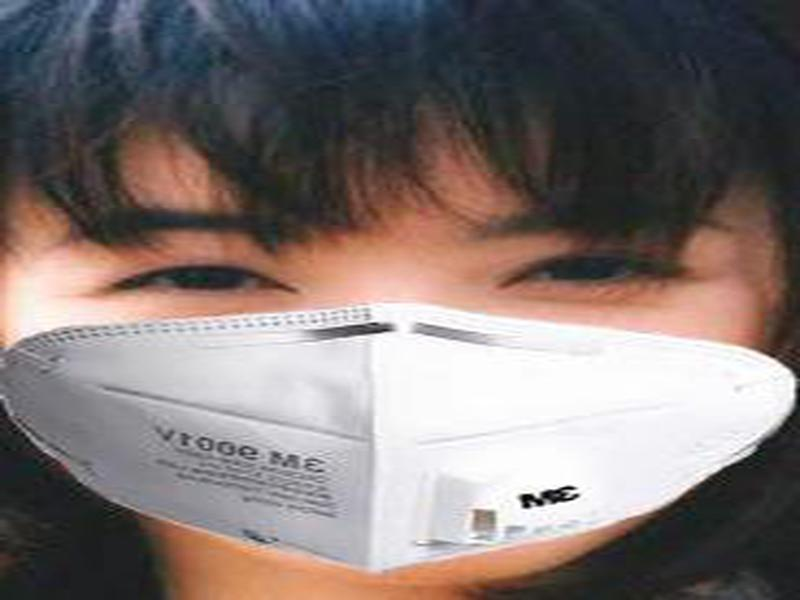with_mask: (1, 80, 793, 588)
